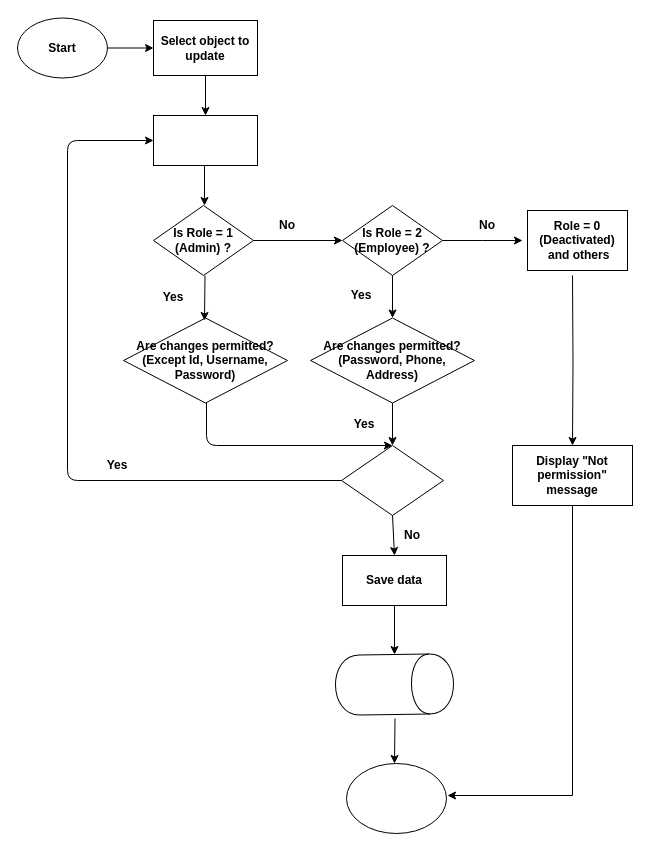
This 650x851 diagram has some shape labels left out. The shapes that lost their labels are listed below. From the top down, each one's box as (x1, y1, x2, y2) in pixels, then its label:
(152, 114, 258, 166): Edit data
(340, 444, 444, 516): Have any empty field?
(334, 652, 454, 716): Database
(346, 762, 446, 834): End
